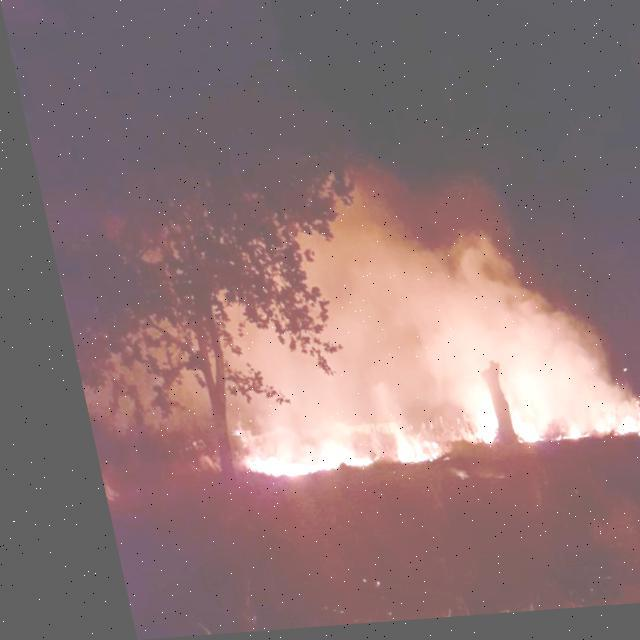Fire: (423, 382, 634, 457), (210, 418, 430, 487)
